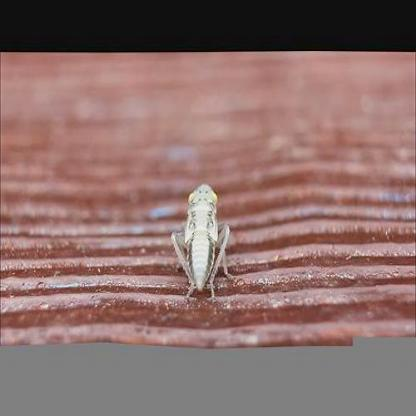green-leafhopper: (171, 181, 238, 300)
